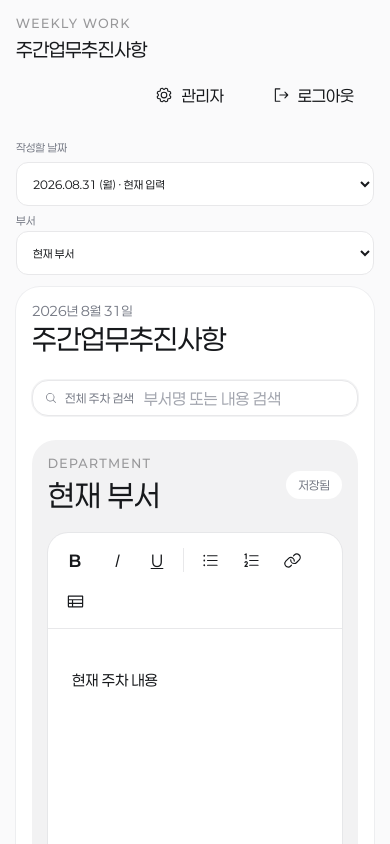
Test: Workspace › Given the current department is absent from the chosen week snapshot, when the date changes, then it selects that snapshot's first department
Select "2026.08.17 (월) · 이전 자료" in the dropdown labelled "작성할 날짜" at (195, 184), box [16,162,374,206]
(page scrolled)
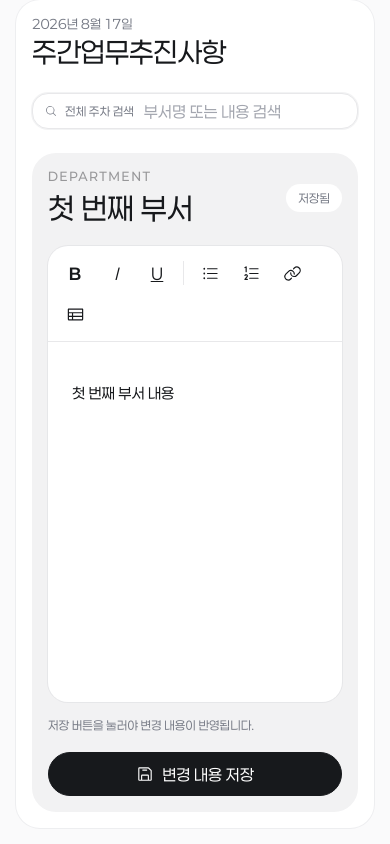
Check: the heading "첫 번째 부서" is shown, box [48,191,193,226]
Check: the field named "업무 내용" reads "첫 번째 부서 내용", box [72,384,174,402]
